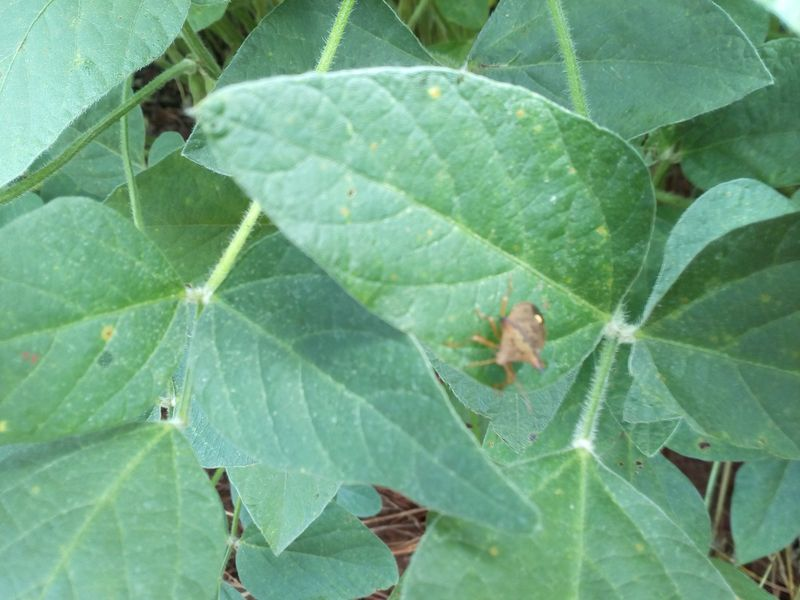Euschistus_heros_adulto: (446, 268, 565, 403)
